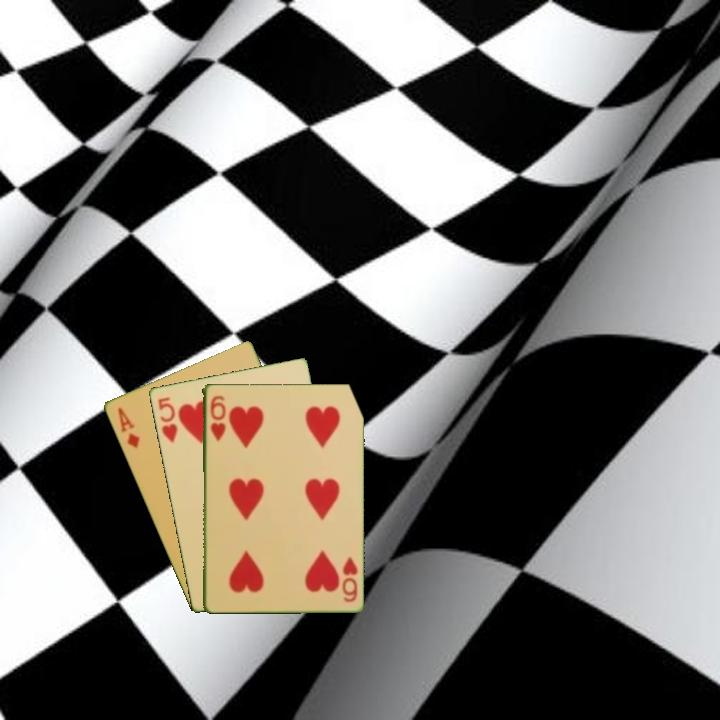5h: (154, 393, 180, 445)
6h: (338, 553, 360, 605), (207, 392, 228, 444)
Ad: (114, 403, 143, 451)
